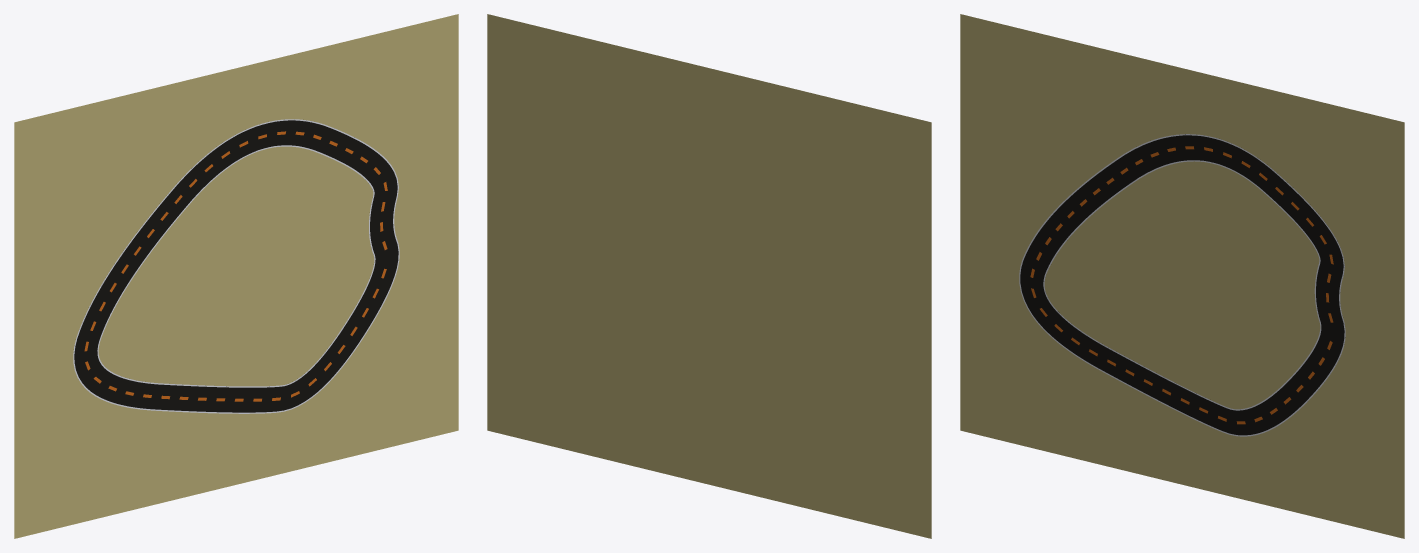
Rendered from track.obj.
3 views of the same model, side by side, from view 1: azimuth 30°, elevation 25°; view 2: azimuth 150°, elevation 25°; view 3: azimuth 330°, elevation 25° (orthographic).
Size of the model in its own units: 15.18 by 13.6 by 0.0025.
Materials: 4 (4 with a texture image).
